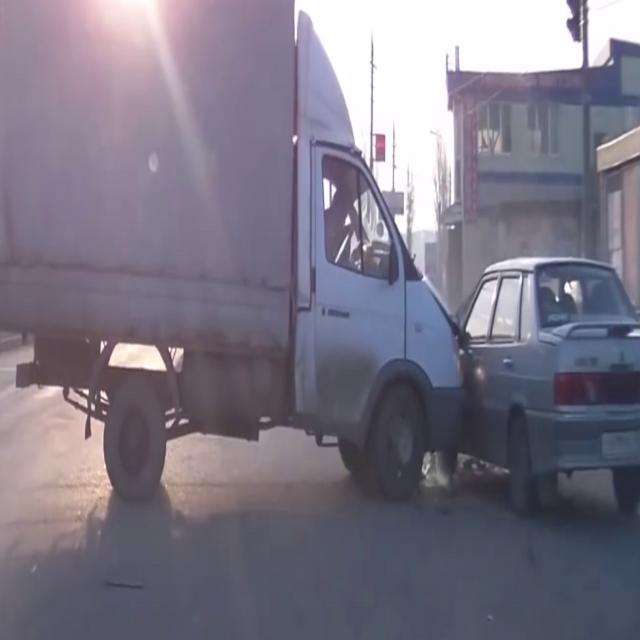accident: (301, 103, 600, 533)
